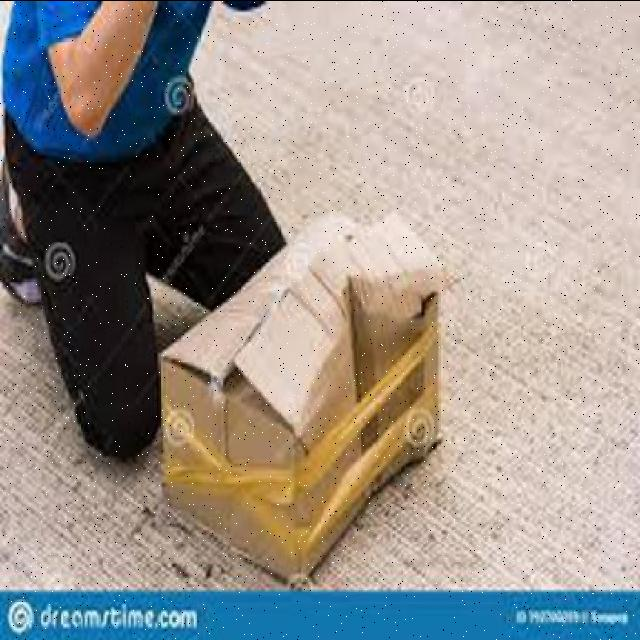defect: (151, 210, 443, 584)
